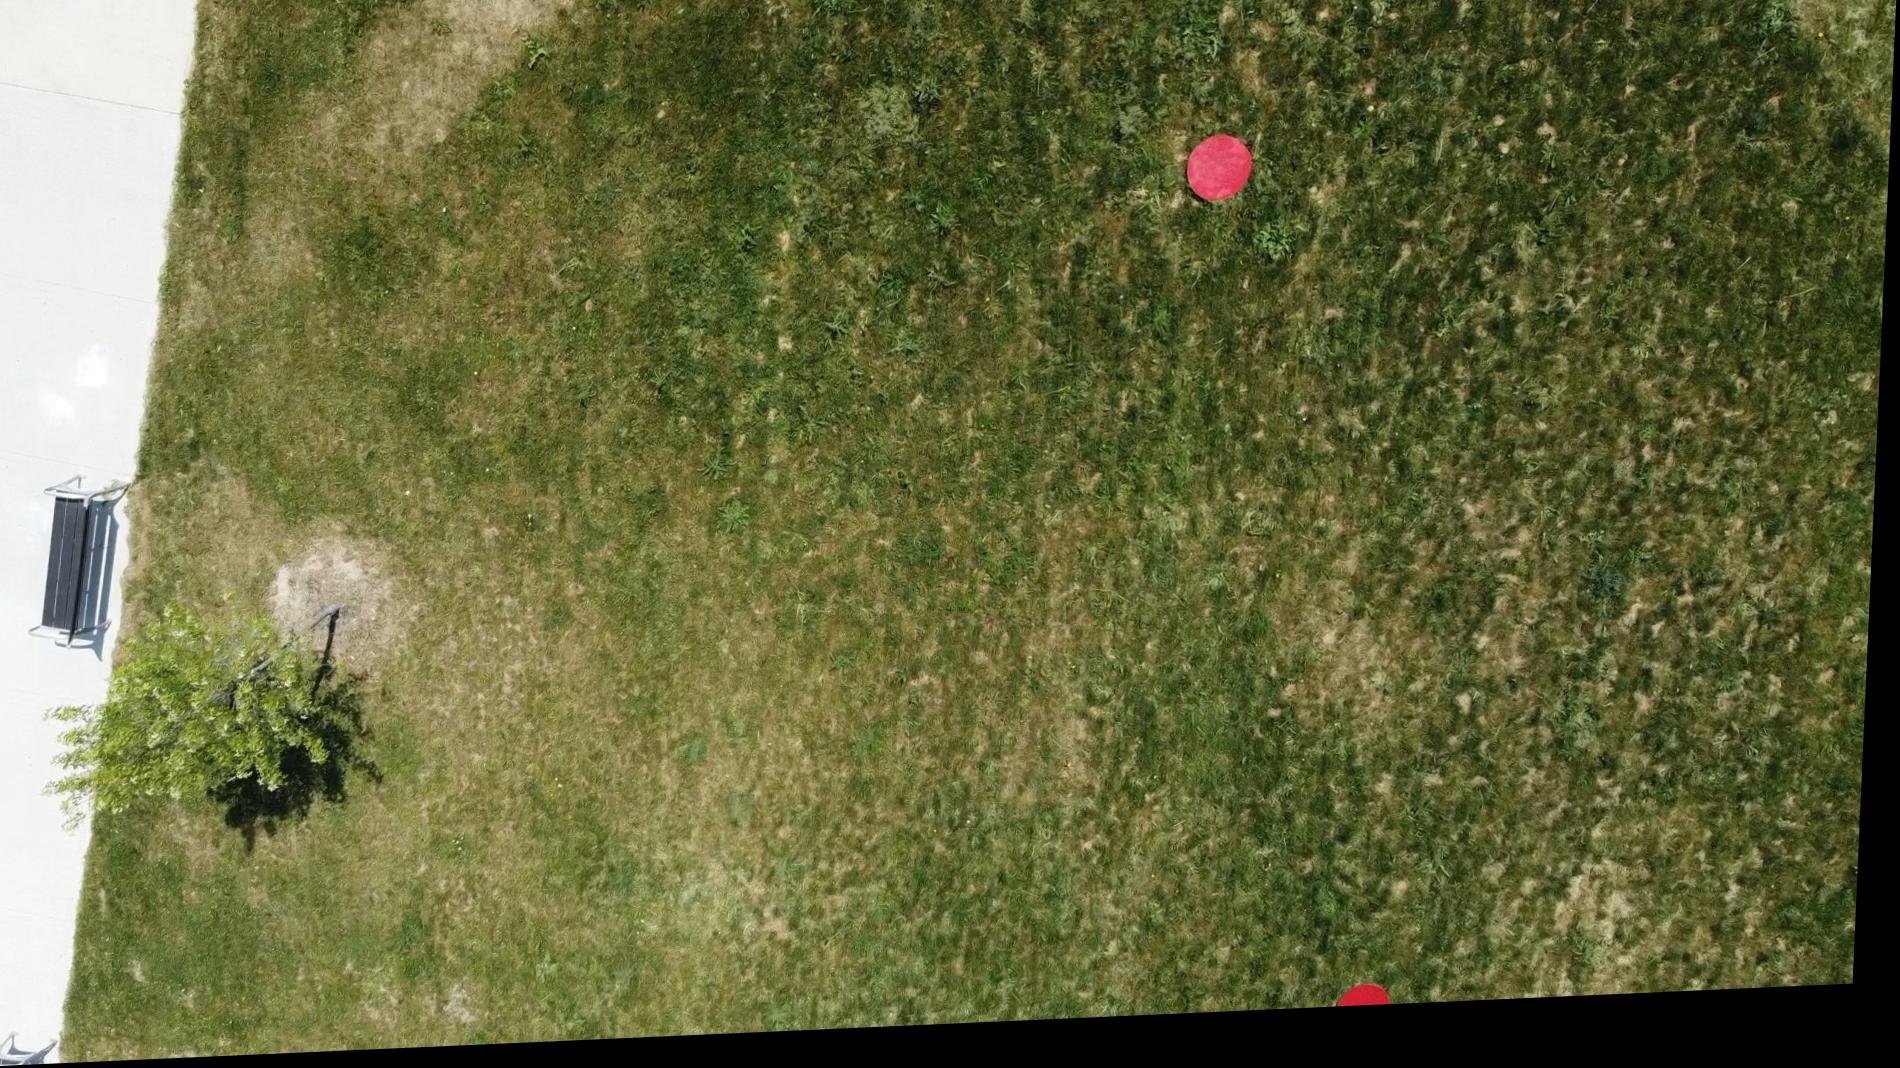Red: (1184, 141, 1259, 217), (1343, 996, 1405, 1020)
